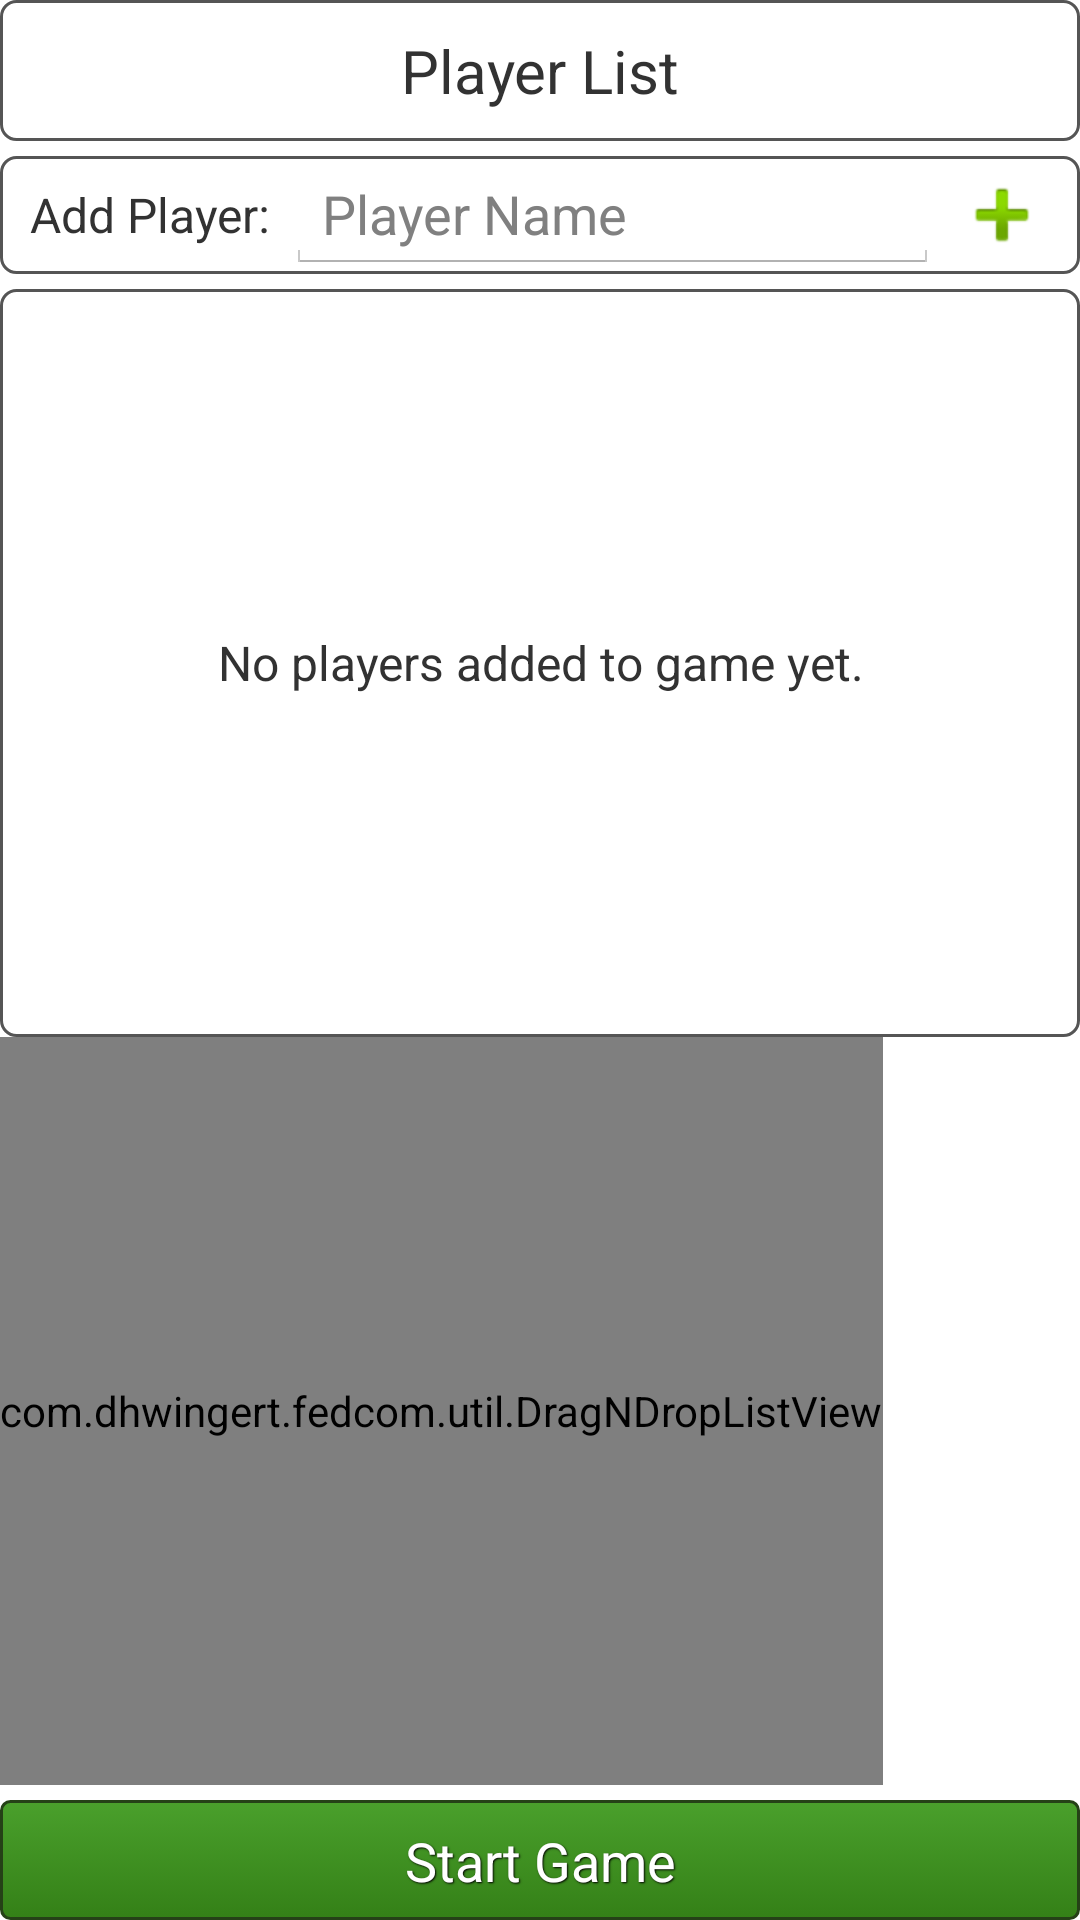

Where to tap for icons on this 1080w x 1920h app screen, as (x,y):
add: (1002,215)
